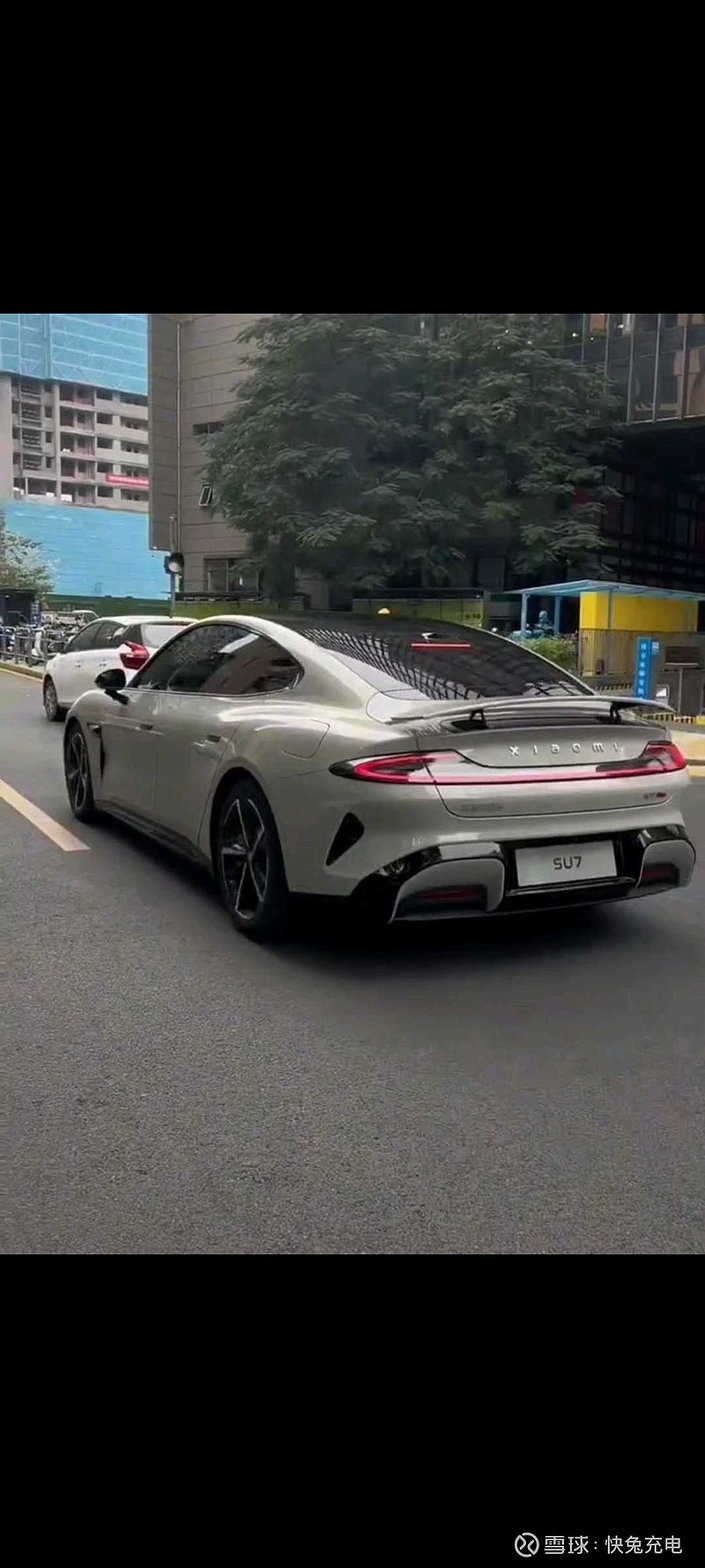other: (29, 608, 202, 721)
su7: (57, 612, 705, 934)
